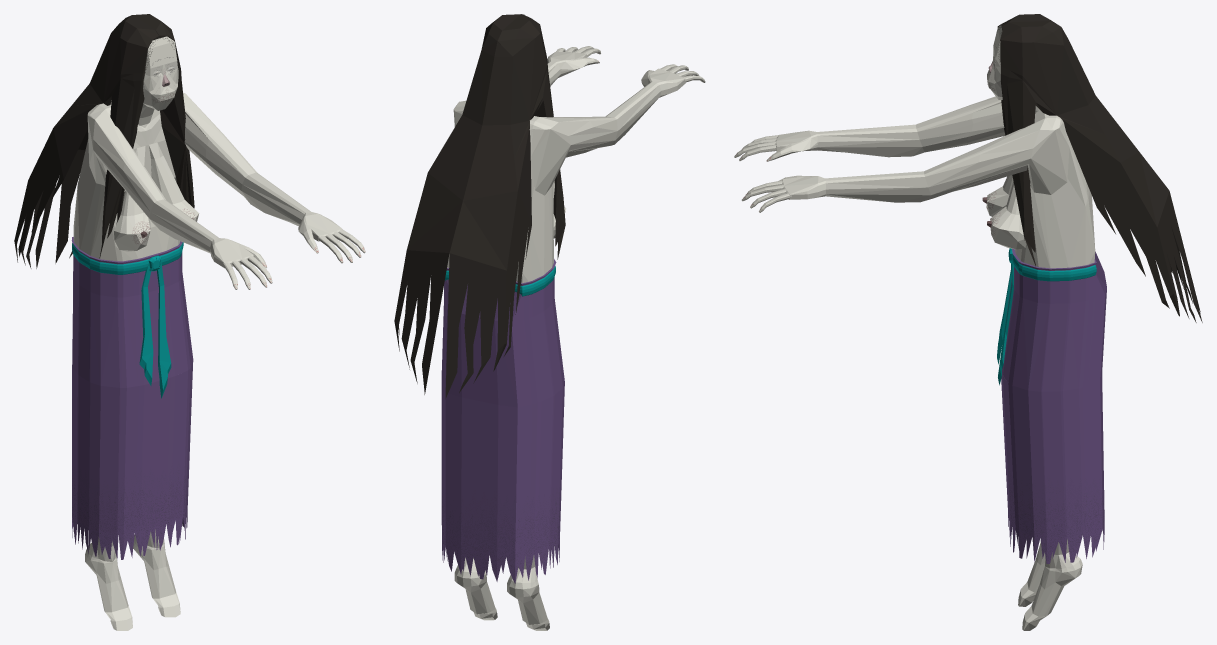
File: Mavudai.fbx
3 views of the same model, side by side, from view 1: azimuth 30°, elevation 25°; view 2: azimuth 150°, elevation 25°; view 3: azimuth 270°, elevation 25° (orthographic).
Visible parts, largest first — view 1: Group5, zx156c1xz65c2, zx156c1xz65c1, Group22, Group24, Group18, Group17, Group23, zxc56x1zc65x1c2, z1xc56x1zc561asd36_1_1, Group16, zxc56x1zc65x1c1 (+11 smaller); view 2: Group5, zx156c1xz65c2, zx156c1xz65c1, Group22, Group21, Group24, Group23, zx156cx1zc65x1_1, zx156cx1zc65x1_3, Group10, Group25, Group3; view 3: Group5, zx156c1xz65c1, Group16, Group18, Group24, Group23, Group17, Group15, zx156cx1zc65x1_4, zxc56x1zc65x1c1, Group8, Group3 (+2 smaller).
Part boxes in pixels (<box>): Group5: <box>71,237,193,559</box>; zx156c1xz65c2: <box>14,15,160,268</box>; zx156c1xz65c1: <box>55,14,194,263</box>; Group22: <box>73,100,152,261</box>; Group24: <box>93,109,165,221</box>; Group18: <box>183,93,257,195</box>; Group17: <box>241,172,310,226</box>; Group23: <box>150,199,218,253</box>; zxc56x1zc65x1c2: <box>113,146,150,251</box>; z1xc56x1zc561asd36_1_1: <box>138,38,168,125</box>; Group16: <box>144,109,180,254</box>; zxc56x1zc65x1c1: <box>149,142,199,221</box>; Group5: <box>441,259,564,583</box>; zx156c1xz65c2: <box>445,14,562,398</box>; zx156c1xz65c1: <box>394,14,524,394</box>; Group22: <box>516,116,554,283</box>; Group21: <box>531,117,570,195</box>; Group24: <box>540,116,617,157</box>; Group23: <box>605,82,661,145</box>; zx156cx1zc65x1_1: <box>515,567,547,624</box>; zx156cx1zc65x1_3: <box>463,558,495,614</box>; Group10: <box>543,70,565,259</box>; Group25: <box>648,68,685,97</box>; Group3: <box>445,266,555,296</box>; Group5: <box>1001,248,1106,563</box>; zx156c1xz65c1: <box>1000,21,1202,322</box>; Group16: <box>1015,110,1095,268</box>; Group18: <box>924,118,1044,198</box>; Group24: <box>915,96,1005,152</box>; Group23: <box>817,124,924,157</box>; Group17: <box>825,171,932,202</box>; Group15: <box>1028,118,1069,194</box>; zx156cx1zc65x1_4: <box>1032,552,1082,616</box>; zxc56x1zc65x1c1: <box>990,181,1026,249</box>; Group8: <box>1022,80,1035,266</box>; Group3: <box>1012,255,1096,281</box>.
Bounding box in the file's own units: 781 × 3042 × 2169.
